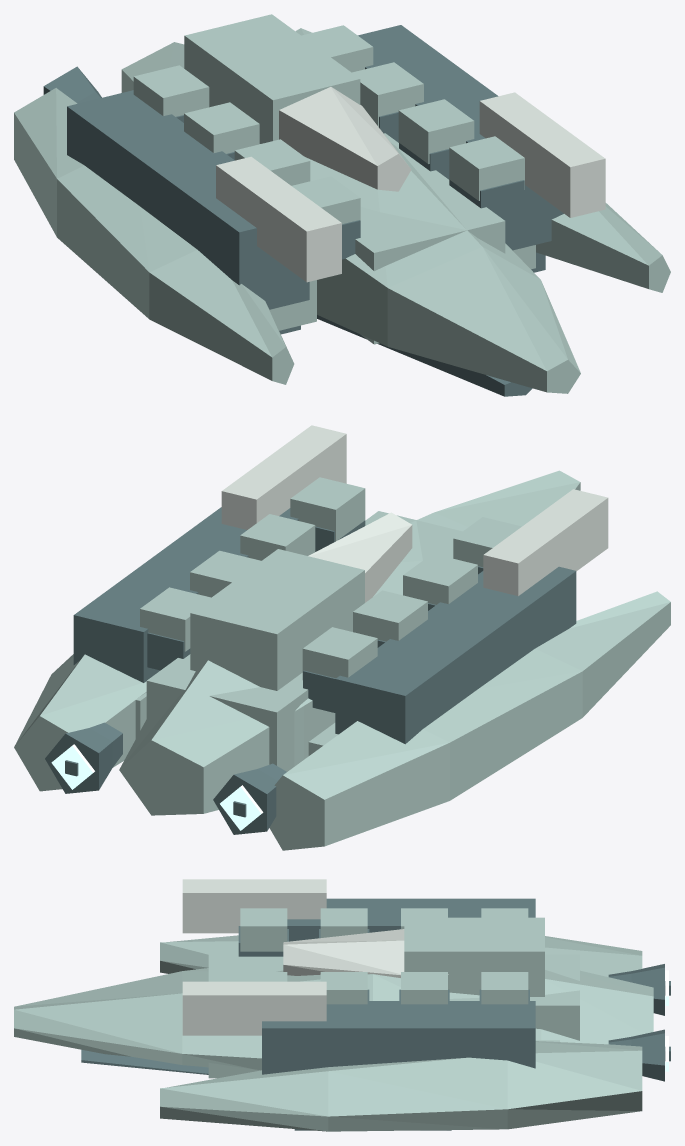
The picture shows the model from 3 angles, top to bottom: view 1: azimuth 30°, elevation 25°; view 2: azimuth 150°, elevation 25°; view 3: azimuth 270°, elevation 25°; orthographic projection. The views are drawn at different scales.
Bounding box in the file's own units: 16.13 × 6.46 × 26.18.
